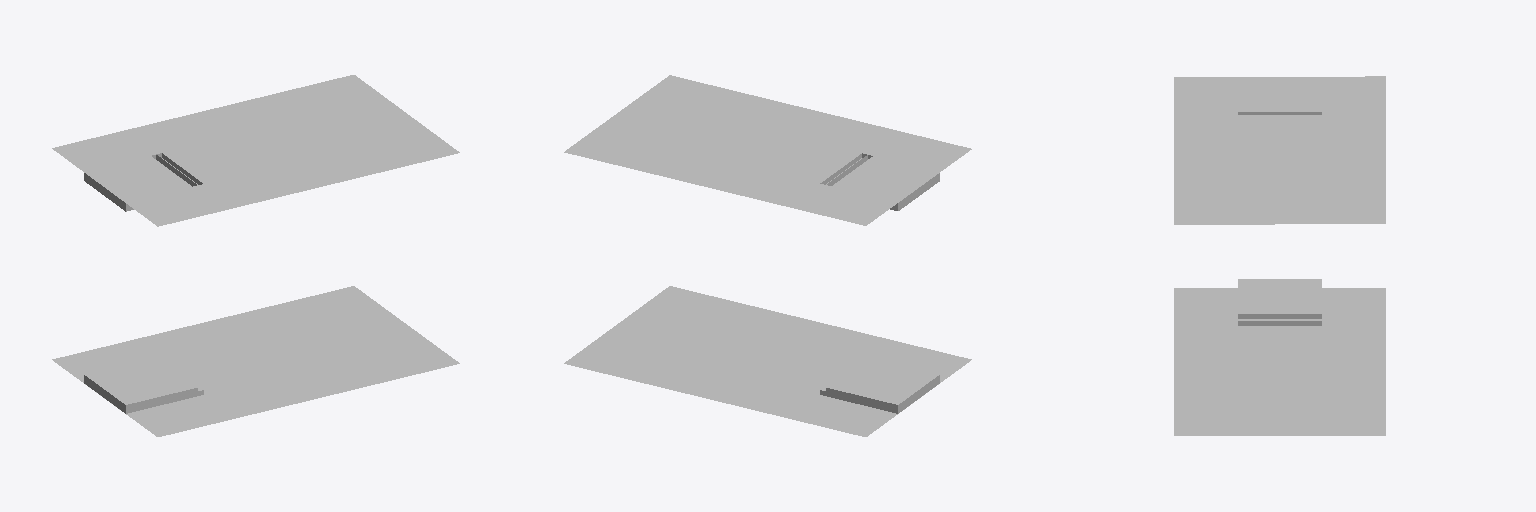
File: throne_roof_ground.obj
3 renders of one model, left to right at view 1: azimuth 30°, elevation 25°; view 2: azimuth 150°, elevation 25°; view 3: azimuth 270°, elevation 25°, orthographic.
Parts seen in each view (by area): view 1: Ground.001_Plane.001; view 2: Ground.001_Plane.001; view 3: Ground.001_Plane.001.
Boxes of the visible parts, x1,y1,x2,y2 form: Ground.001_Plane.001: [52, 75, 459, 436]; Ground.001_Plane.001: [564, 75, 971, 436]; Ground.001_Plane.001: [1174, 76, 1385, 435].
Size of the model in its own units: 69.03 by 46.07 by 42.03.